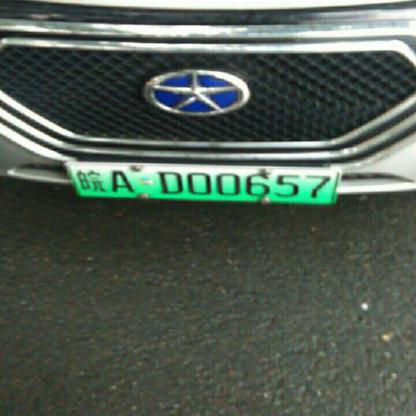lp: (64, 164, 339, 204)
